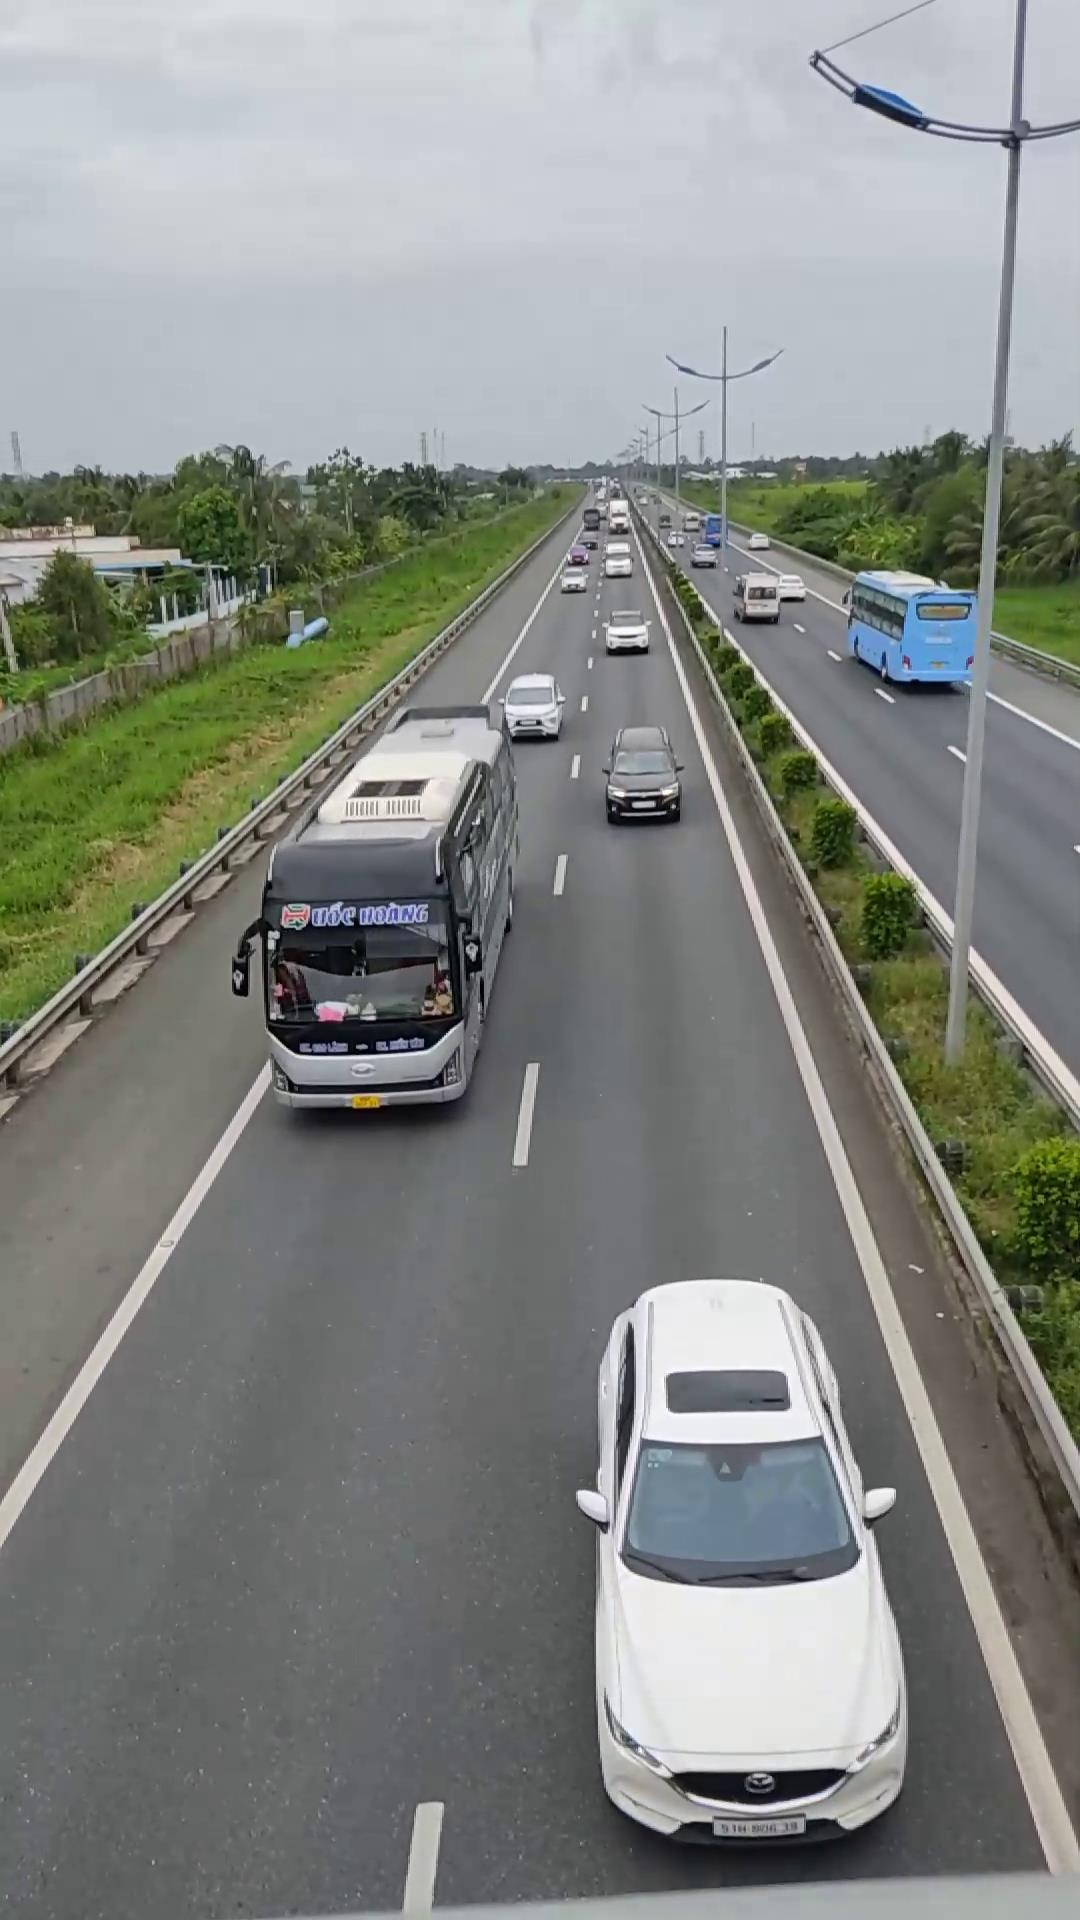bus: (249, 699, 509, 1117)
car: (582, 1280, 913, 1847), (600, 723, 684, 823), (491, 671, 568, 738)
